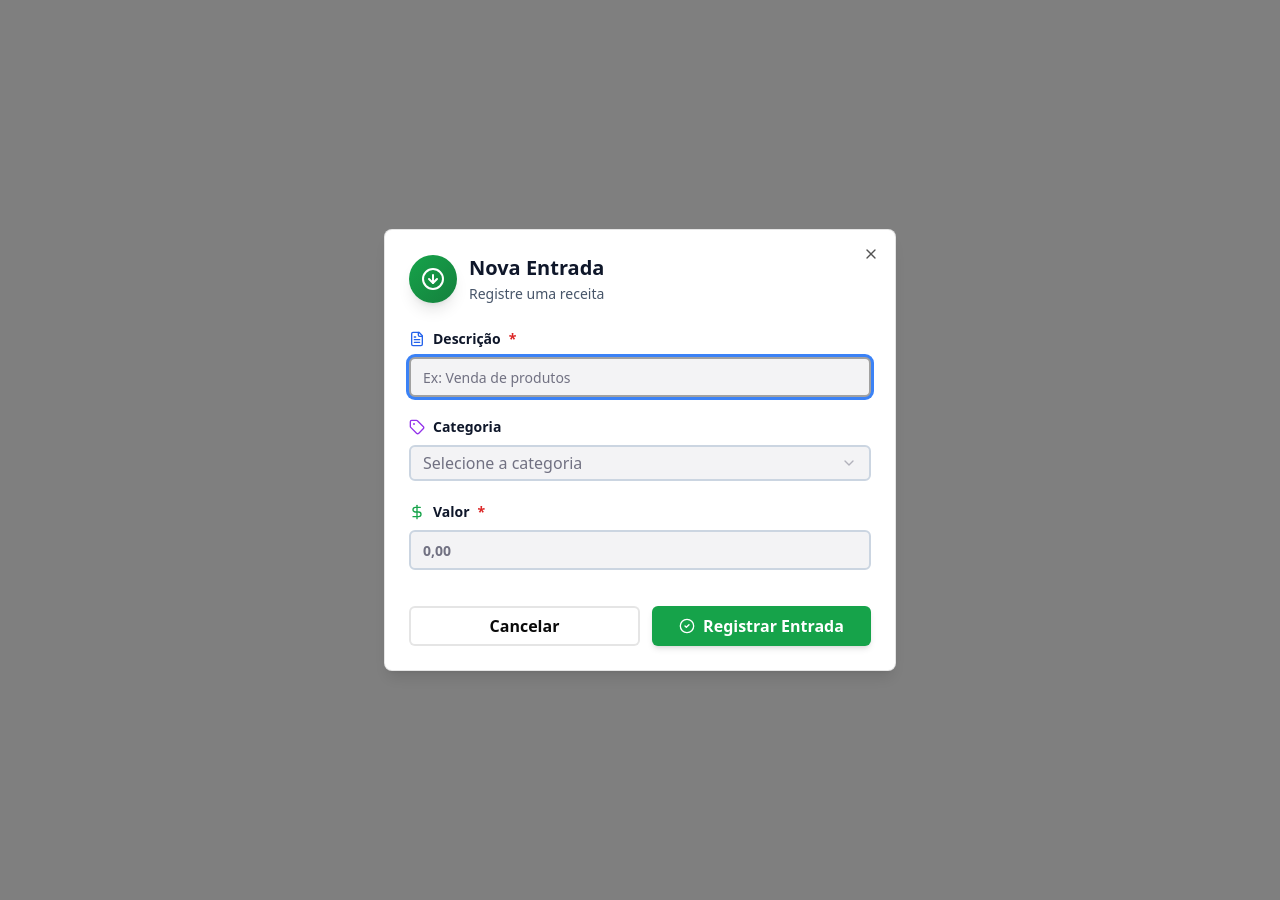
Test: NewTransactionDialog - Comprehensive Tests › Form Input › should allow typing in amount field
In the field labelled "Valor": coordinates (640, 550) [409,530,871,570], type "100.50"
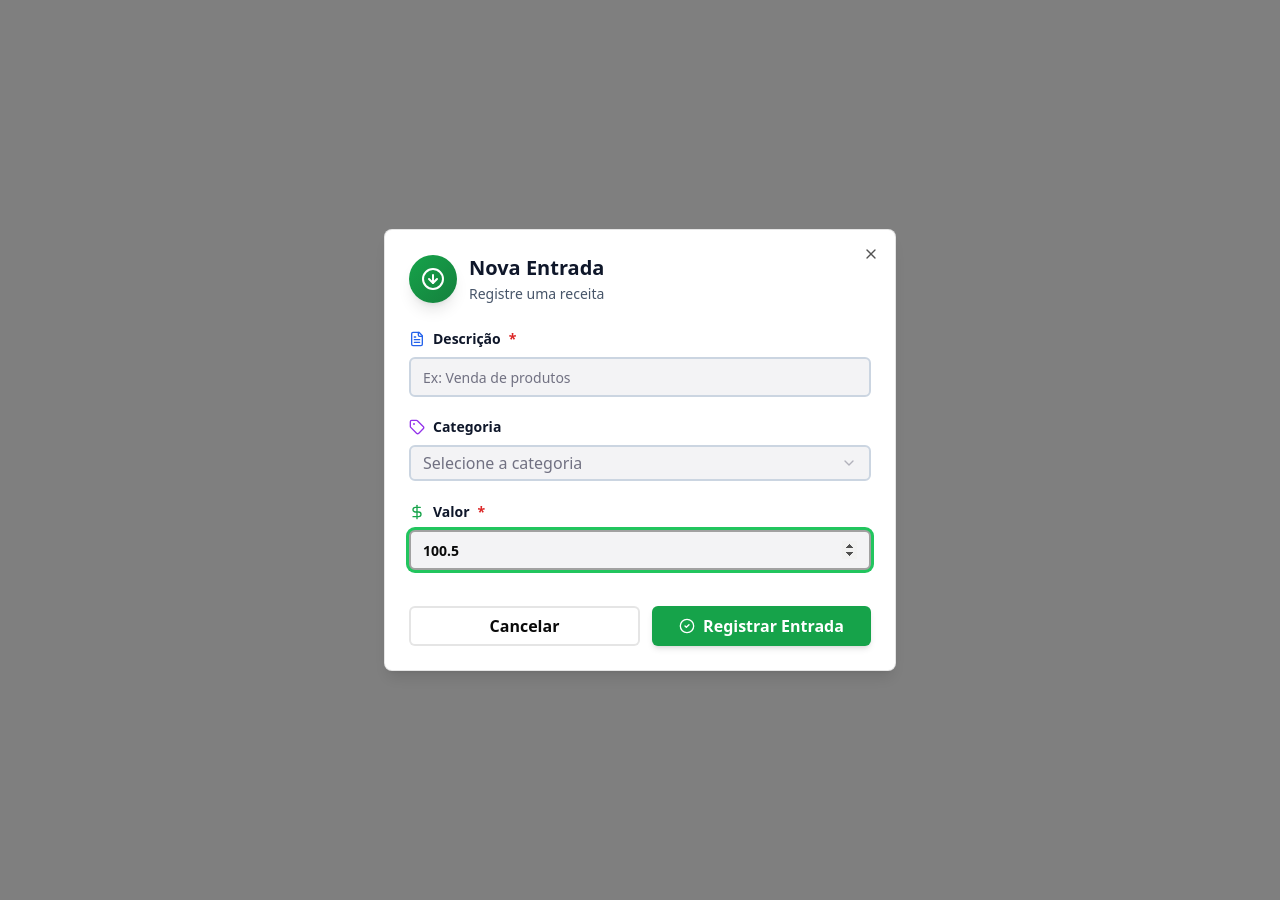
Expected: the field labelled "Valor" holds "100.5", [409,530,871,570]
